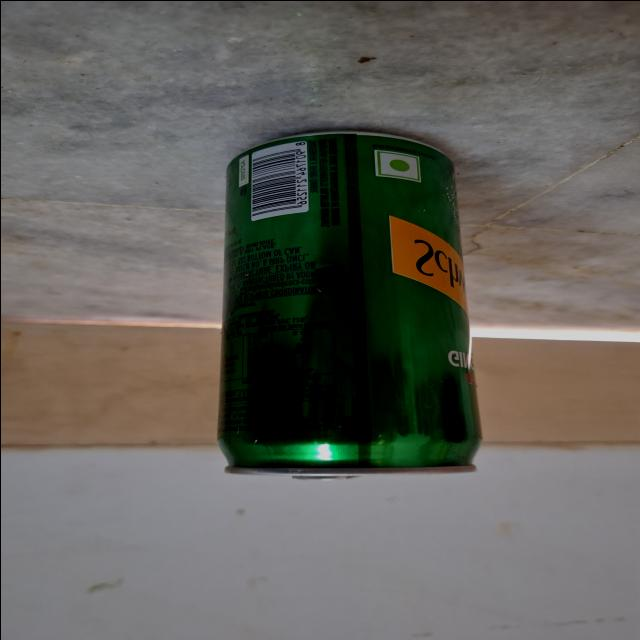Schweppes: (214, 128, 470, 476)
